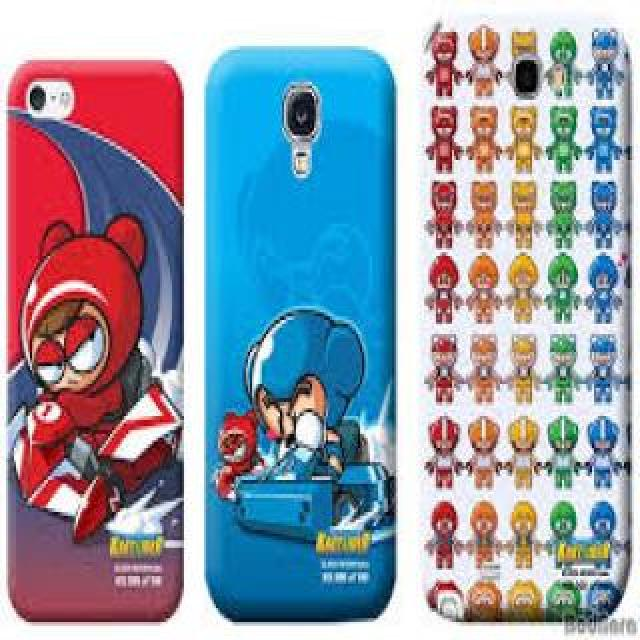smart phone: (420, 12, 640, 624), (7, 50, 190, 637), (220, 42, 407, 615)
